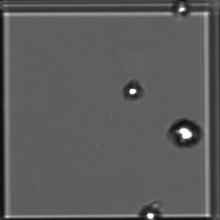Living Cell: (173, 111, 199, 154), (120, 77, 139, 101), (173, 1, 191, 26)
